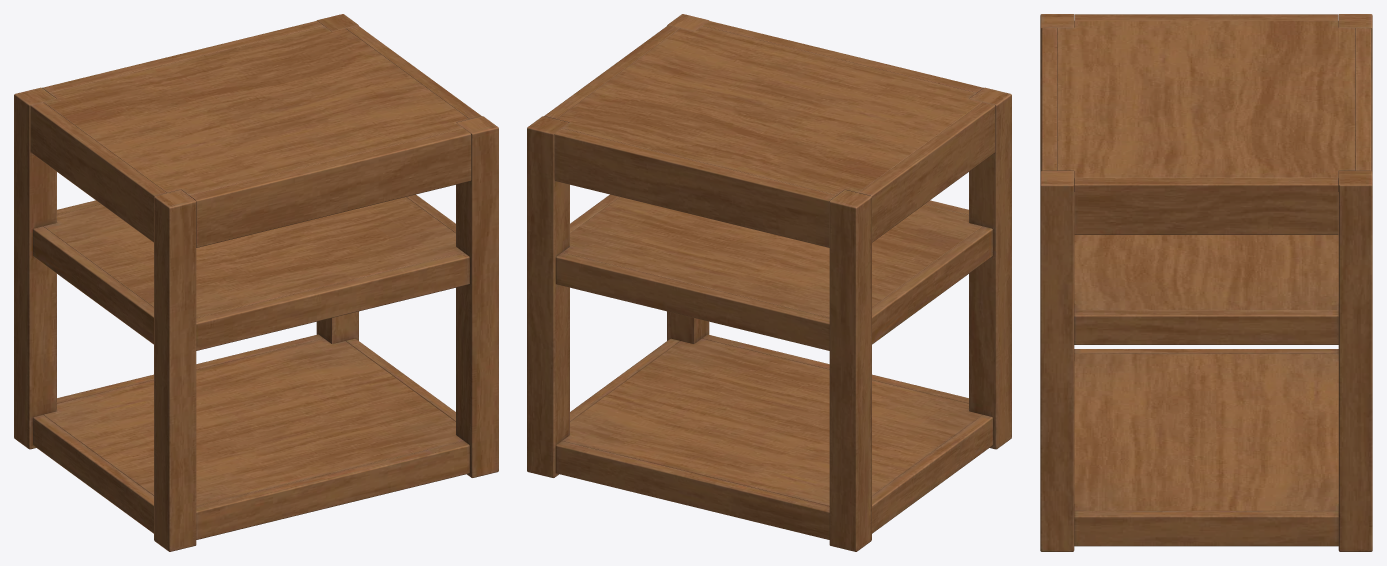
The model's file is yan-sehpa.glb.
3 renders of one model, left to right at view 1: azimuth 30°, elevation 25°; view 2: azimuth 150°, elevation 25°; view 3: azimuth 270°, elevation 25°, orthographic. The views are drawn at different scales.
Visible parts, largest first — view 1: side_table_01; view 2: side_table_01; view 3: side_table_01.
Part boxes in pixels (<box>): side_table_01: <box>14,14,498,551</box>; side_table_01: <box>527,14,1011,551</box>; side_table_01: <box>1040,14,1372,551</box>.
Size of the model in its own units: 0.55 by 0.5507 by 0.45.
1 material, 1 textured.
